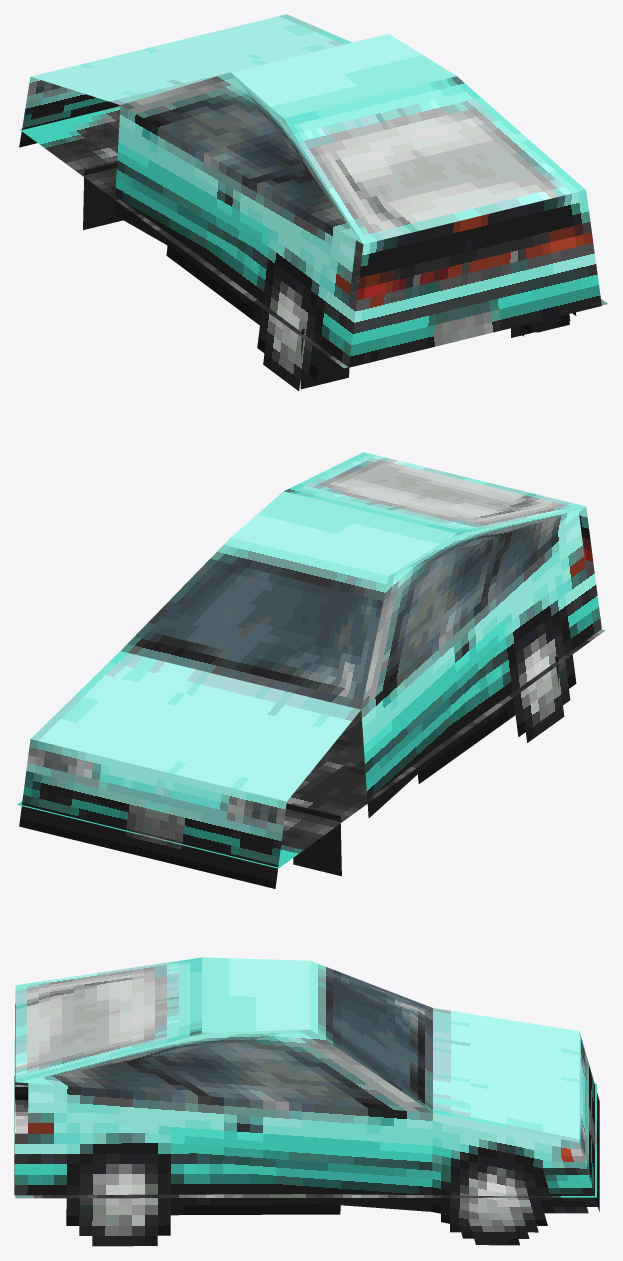
Rendered from car-crx-plt2.glb.
3 views of the same model, one above another, from view 1: azimuth 30°, elevation 25°; view 2: azimuth 150°, elevation 25°; view 3: azimuth 270°, elevation 25° (orthographic). The views are drawn at different scales.
Parts seen in each view (by area): view 1: car-crx-plt2; view 2: car-crx-plt2; view 3: car-crx-plt2.
Boxes of the visible parts, <box> form: car-crx-plt2: <box>19,14,607,390</box>; car-crx-plt2: <box>17,452,605,888</box>; car-crx-plt2: <box>14,957,599,1246</box>.
Bounding box in the file's own units: 1.61 × 1.26 × 3.48.
Materials: 13 (13 with a texture image).
